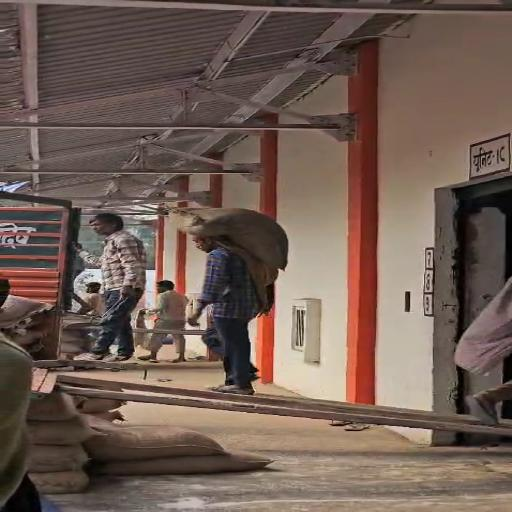bag: (161, 199, 295, 274)
